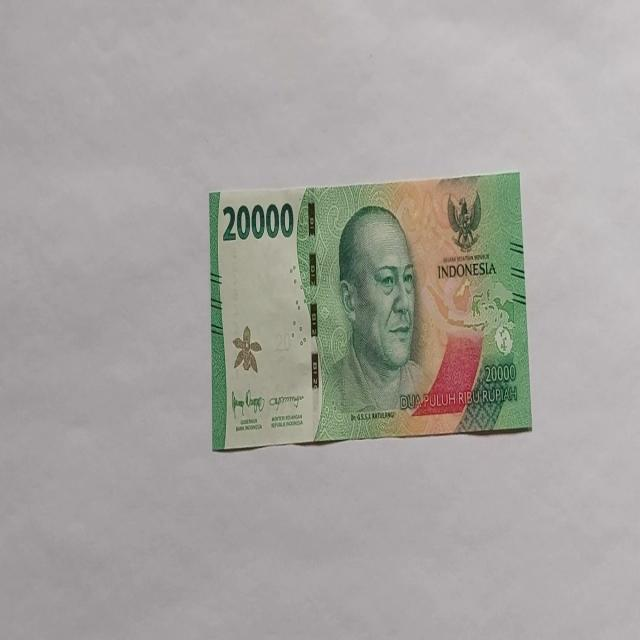dua puluh ribu rupiah: (208, 170, 532, 452), (315, 203, 433, 439)
